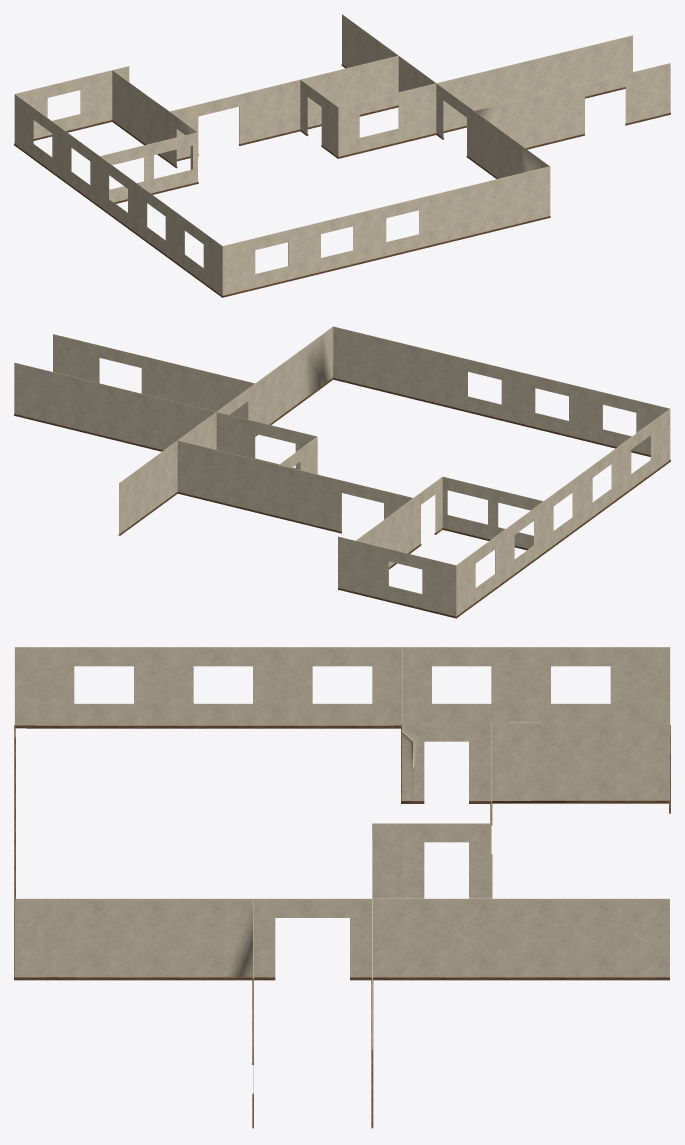
3 views of the same model, one above another, from view 1: azimuth 30°, elevation 25°; view 2: azimuth 150°, elevation 25°; view 3: azimuth 270°, elevation 25° (orthographic). The views are drawn at different scales.
Parts seen in each view (by area): view 1: SM_OfficeWalls (1); view 2: SM_OfficeWalls (1); view 3: SM_OfficeWalls (1).
Boxes of the visible parts, bbox=[...] form: SM_OfficeWalls (1): bbox=[14, 14, 670, 297]; SM_OfficeWalls (1): bbox=[14, 326, 670, 618]; SM_OfficeWalls (1): bbox=[14, 647, 670, 1128].
Bounding box in the file's own units: 3203 × 300 × 2206.
